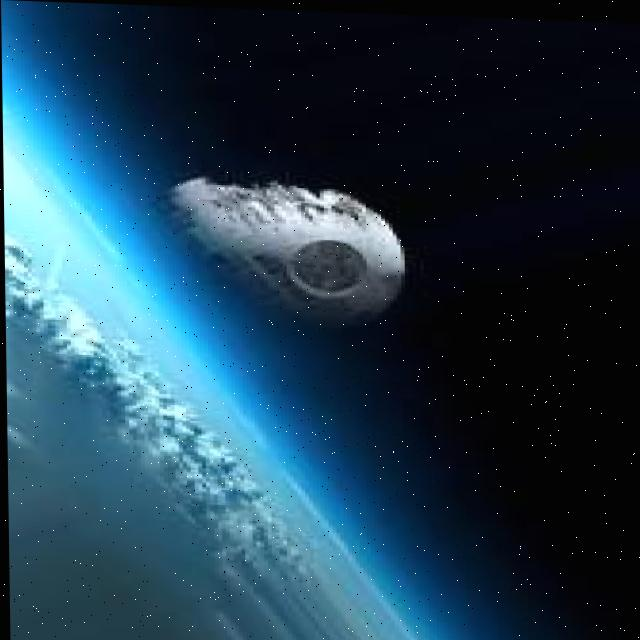deathstar: (147, 171, 404, 334)
